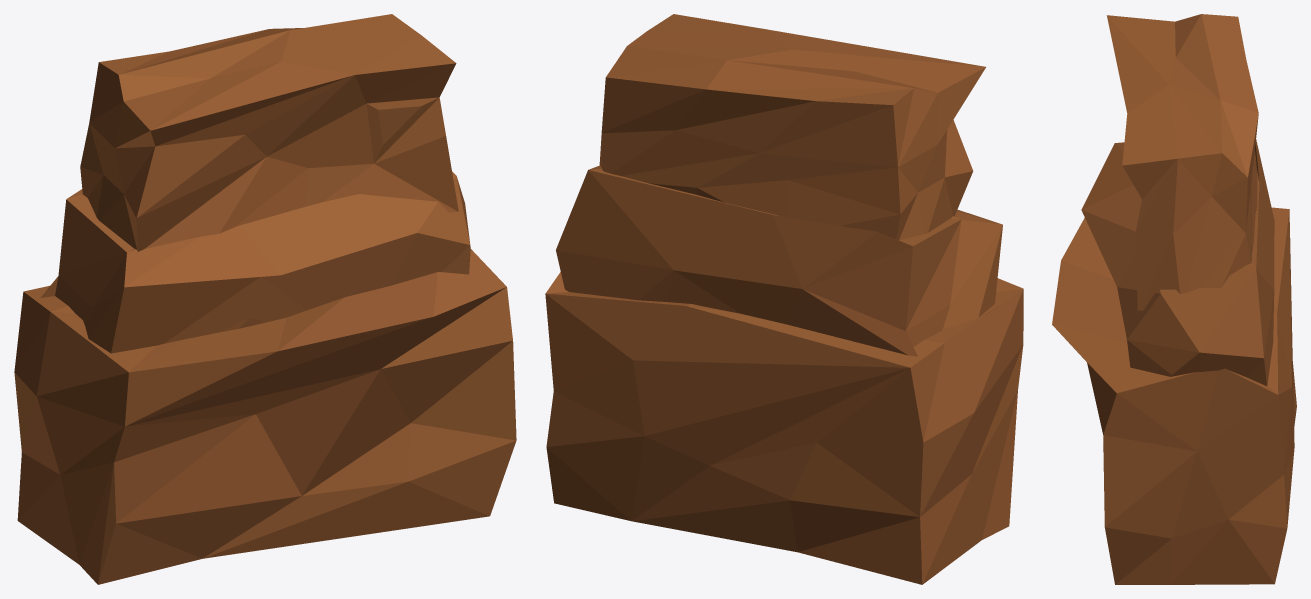
Rendered from marsrock.glb.
3 renders of one model, left to right at view 1: azimuth 30°, elevation 25°; view 2: azimuth 150°, elevation 25°; view 3: azimuth 270°, elevation 25°, orthographic. The views are drawn at different scales.
Visible parts, largest first — view 1: Cliff 1; view 2: Cliff 1; view 3: Cliff 1.
Part boxes in pixels (x1,y1,x2,y2): Cliff 1: (14, 14, 516, 584); Cliff 1: (545, 14, 1023, 584); Cliff 1: (1052, 14, 1296, 584).
Size of the model in its own units: 0.2843 by 0.3164 by 0.1626.
1 material, 1 textured.
